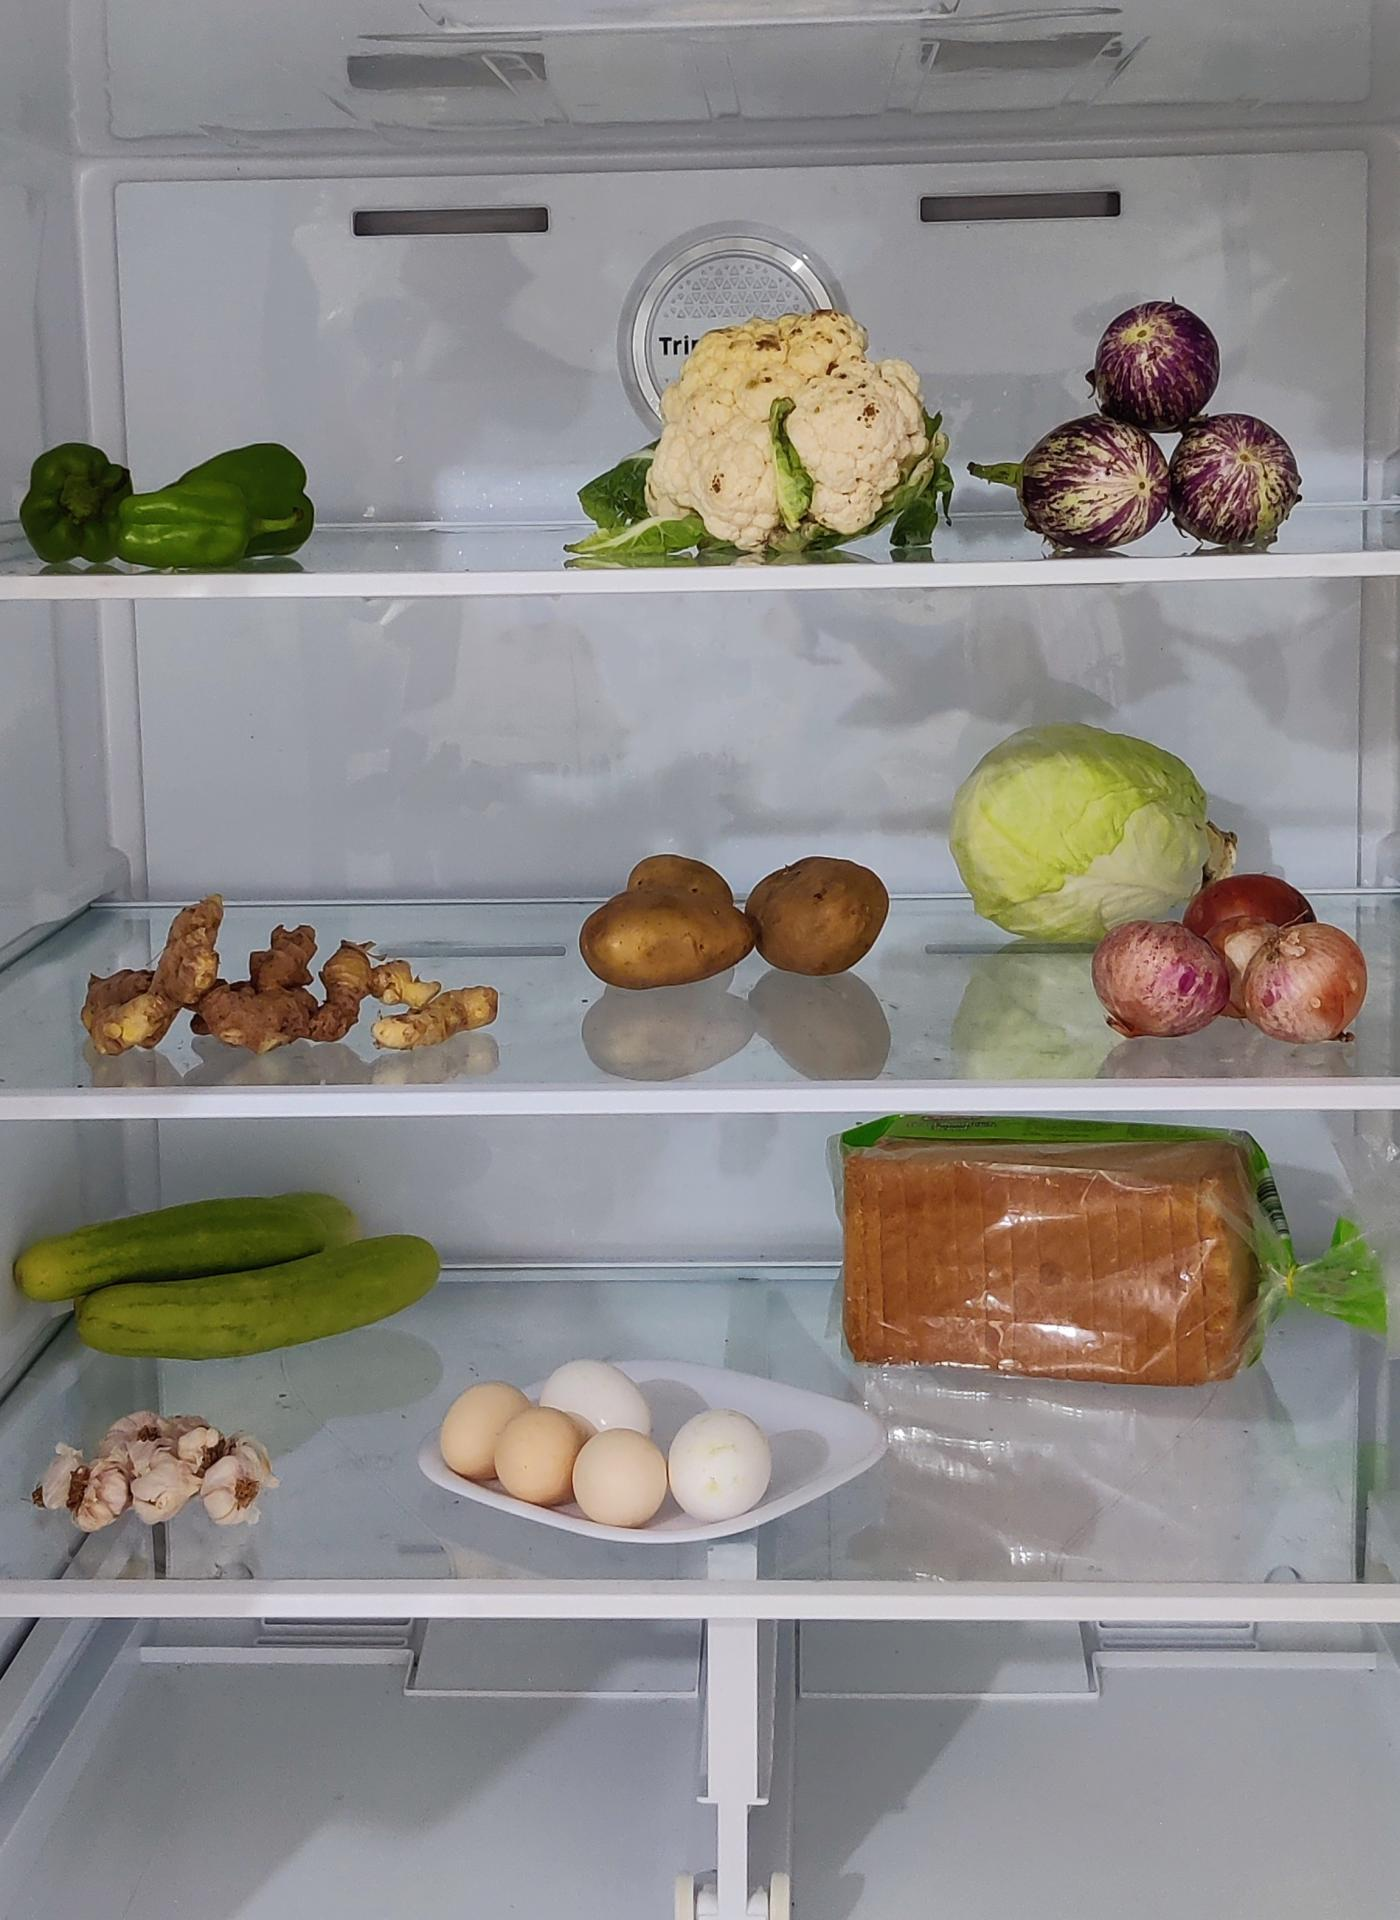bread: (835, 1121, 1296, 1395)
brinjal: (1018, 307, 1297, 575)
cabbage: (950, 723, 1233, 939)
capsicum: (13, 444, 315, 580)
cauliflower: (646, 310, 951, 549)
cucumber: (27, 1191, 443, 1365)
egg: (443, 1339, 772, 1522)
garlic: (34, 1407, 277, 1534)
ginger: (88, 887, 504, 1049)
onion: (1115, 859, 1379, 1061)
potato: (578, 844, 895, 979)
